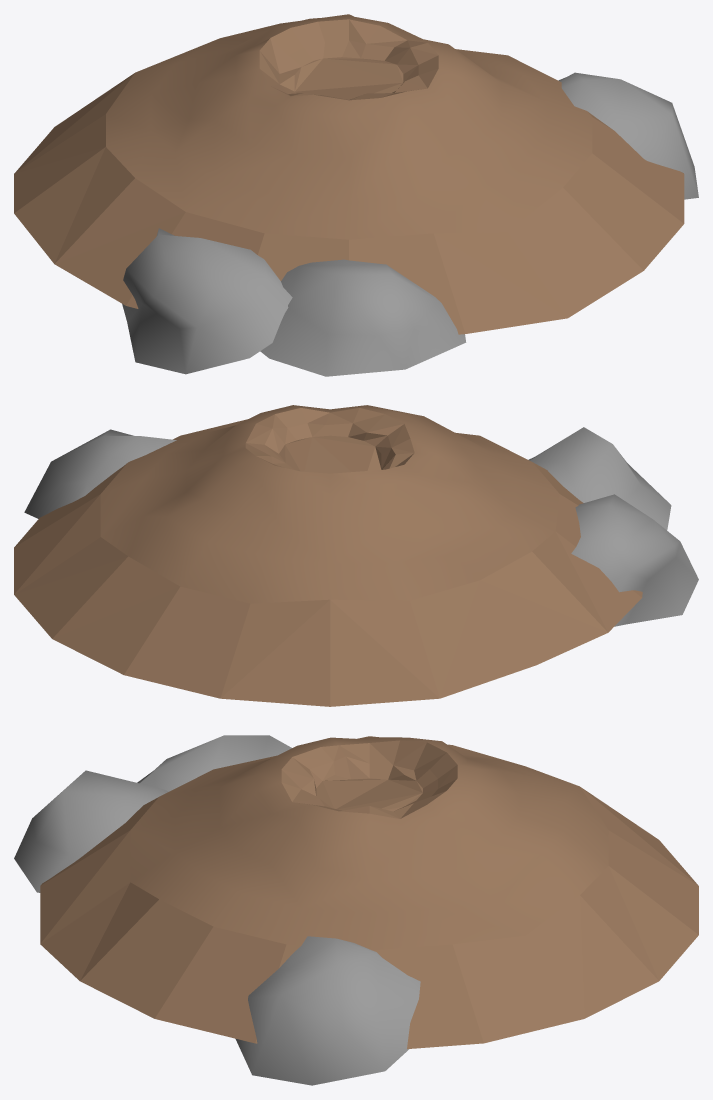
Rendered from AntHill.FBX.
3 renders of one model, top to bottom at view 1: azimuth 30°, elevation 25°; view 2: azimuth 150°, elevation 25°; view 3: azimuth 270°, elevation 25°, orthographic. The views are drawn at different scales.
Visible parts, largest first — view 1: Cylinder001, GeoSphere003, GeoSphere001, GeoSphere002; view 2: Cylinder001, GeoSphere003, GeoSphere001, GeoSphere002; view 3: Cylinder001, GeoSphere002, GeoSphere001, GeoSphere003.
Part boxes in pixels (x1=…): Cylinder001: x1=14, y1=14, x2=684, y2=334; GeoSphere003: x1=122, y1=228, x2=292, y2=374; GeoSphere001: x1=260, y1=259, x2=466, y2=376; GeoSphere002: x1=558, y1=72, x2=698, y2=199; Cylinder001: x1=14, y1=405, x2=642, y2=706; GeoSphere003: x1=571, y1=494, x2=698, y2=626; GeoSphere001: x1=528, y1=427, x2=671, y2=529; GeoSphere002: x1=24, y1=429, x2=176, y2=518; Cylinder001: x1=40, y1=736, x2=698, y2=1049; GeoSphere002: x1=235, y1=936, x2=420, y2=1085; GeoSphere001: x1=14, y1=770, x2=168, y2=892; GeoSphere003: x1=137, y1=735, x2=291, y2=791.
Size of the model in its own units: 177 by 50.82 by 175.
